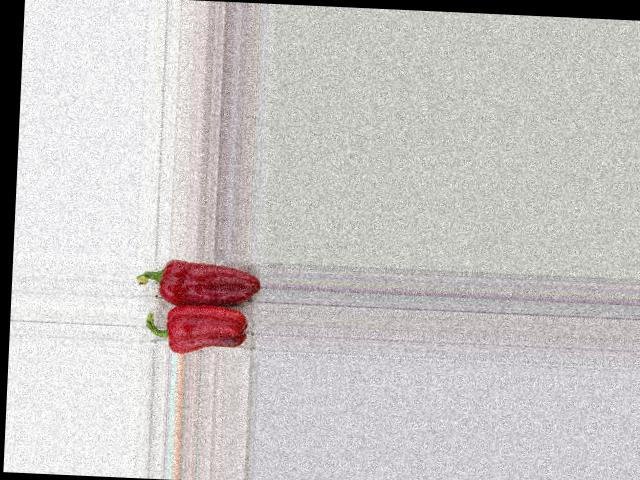bell_pepper: (131, 258, 261, 310)
